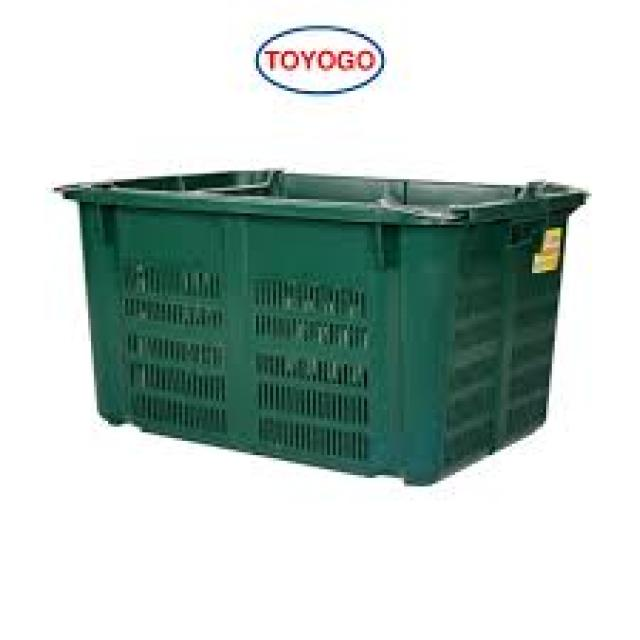basket: (42, 156, 589, 494)
